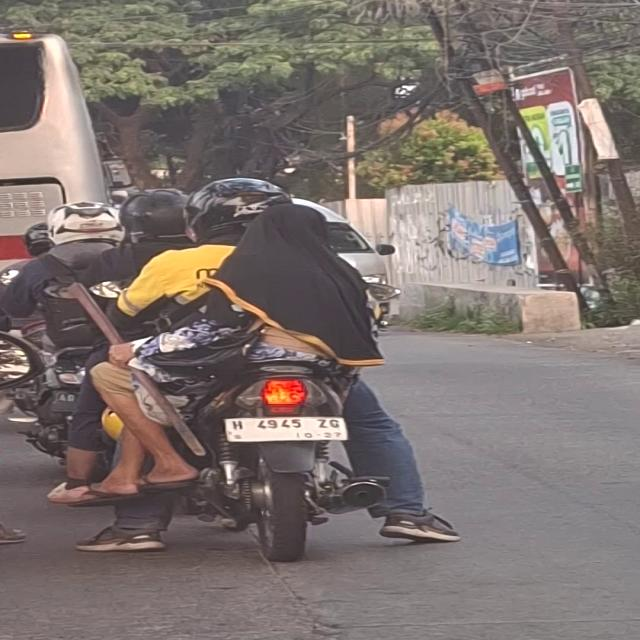WithHelmet: (73, 177, 465, 555), (0, 201, 126, 339), (76, 190, 195, 336)
WithoutHelmet: (215, 198, 395, 382)
